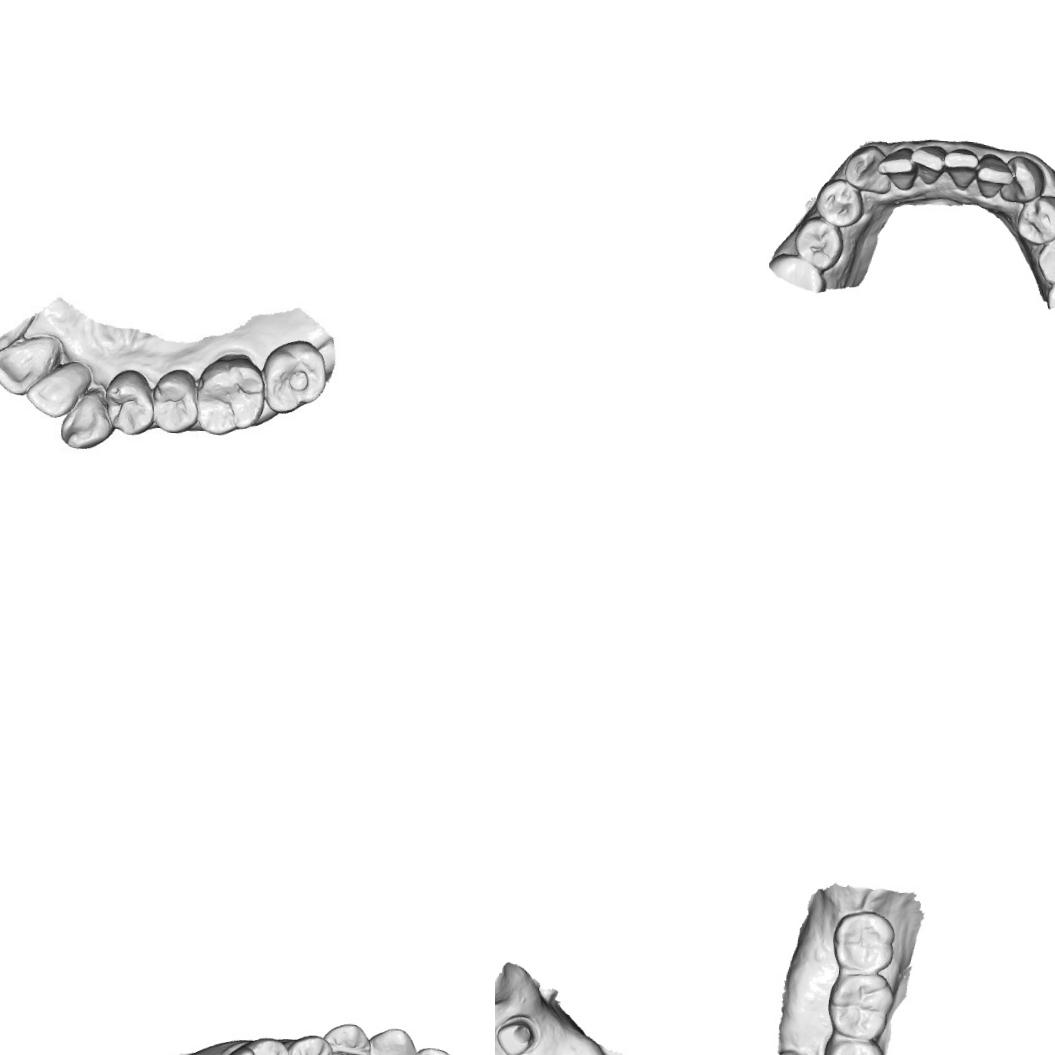abutment: (495, 1012, 539, 1055)
canine: (59, 390, 112, 452), (998, 152, 1048, 206), (842, 142, 893, 194), (363, 1022, 418, 1055)
incisor: (0, 334, 59, 397), (23, 362, 85, 420), (972, 150, 1015, 201), (874, 144, 918, 192), (940, 144, 980, 191), (908, 142, 949, 186), (407, 1043, 457, 1055)
molar: (194, 350, 268, 439), (257, 335, 326, 418), (824, 971, 896, 1040), (830, 906, 898, 976), (213, 1033, 297, 1055)
premolar: (147, 364, 203, 436), (101, 368, 158, 438), (790, 213, 846, 272), (812, 176, 866, 229), (1013, 191, 1055, 247), (318, 1019, 374, 1055), (819, 1029, 887, 1055), (1033, 230, 1055, 286), (284, 1031, 334, 1055)
